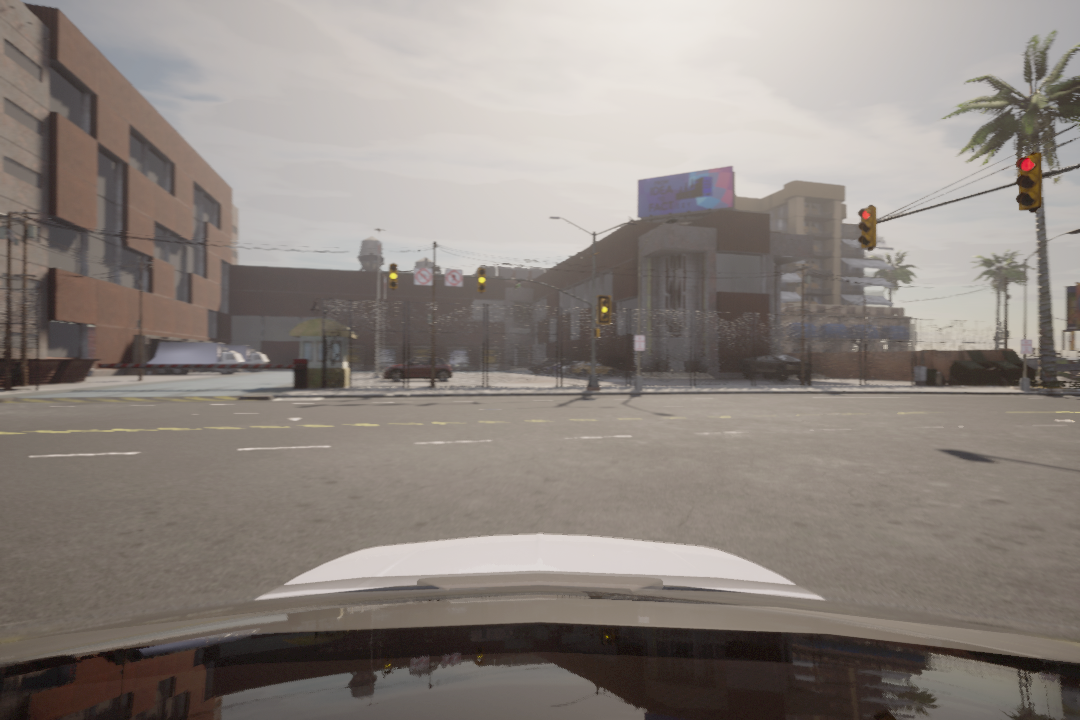TrafficLight: (1011, 153, 1045, 214), (854, 203, 878, 251), (598, 295, 613, 326), (387, 261, 401, 289), (477, 265, 487, 293)
TrafficSign: (444, 269, 464, 287), (413, 269, 433, 286)
